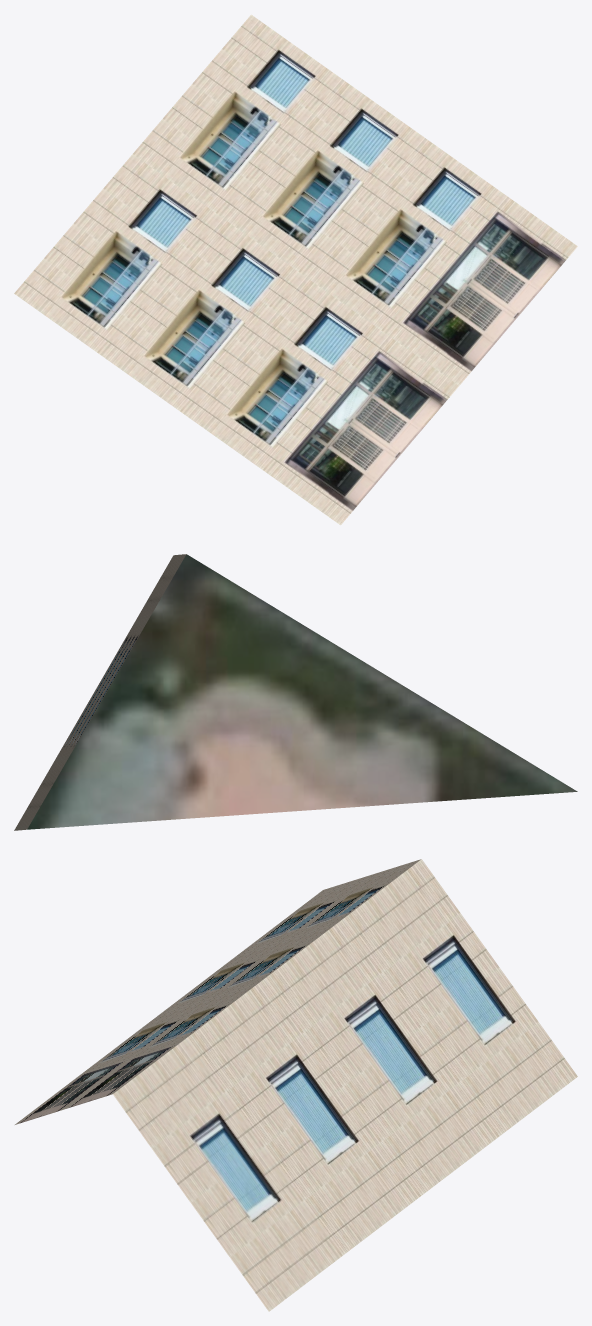
3 views of the same model, one above another, from view 1: azimuth 30°, elevation 25°; view 2: azimuth 150°, elevation 25°; view 3: azimuth 270°, elevation 25° (orthographic). The views are drawn at different scales.
Bounding box in the file's own units: 20.04 × 13.08 × 19.42.
4 materials, 4 textured.
